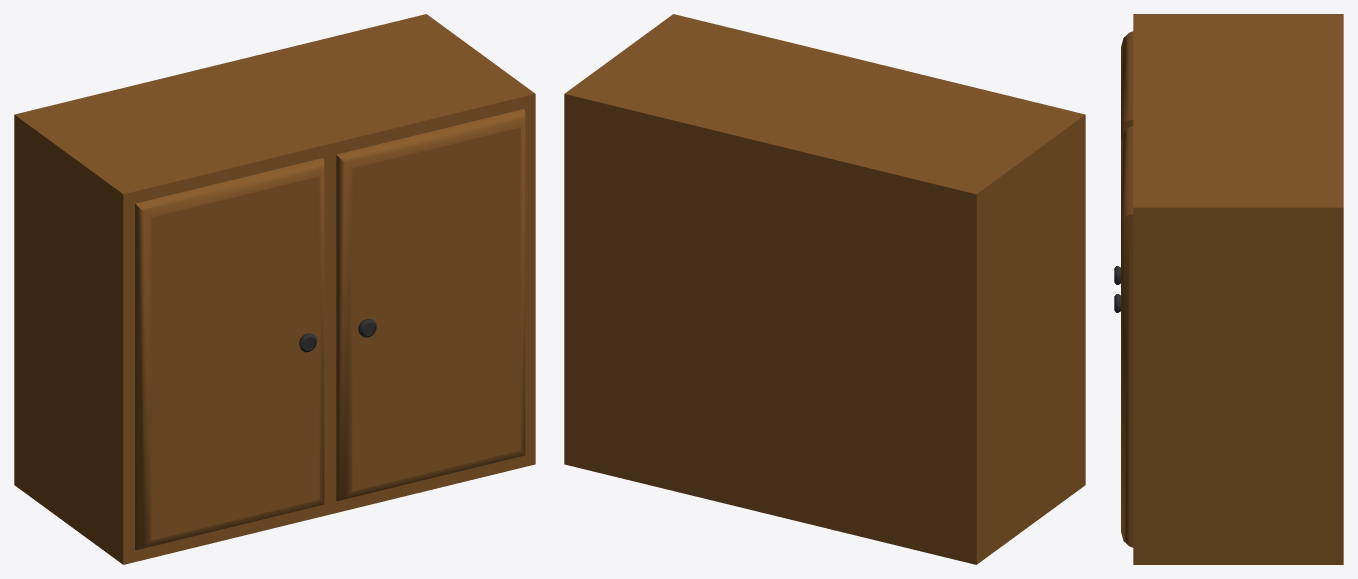
The model's file is funiture_cabinet.fbx.
3 views of the same model, side by side, from view 1: azimuth 30°, elevation 25°; view 2: azimuth 150°, elevation 25°; view 3: azimuth 270°, elevation 25° (orthographic). The views are drawn at different scales.
Parts seen in each view (by area): view 1: funiture_cabinet, Door1.002, door2.002; view 2: funiture_cabinet; view 3: funiture_cabinet, door2.002, Door1.002.
Boxes of the visible parts, <box> form: funiture_cabinet: <box>14,14,535,564</box>; Door1.002: <box>135,158,324,550</box>; door2.002: <box>336,109,525,500</box>; funiture_cabinet: <box>564,14,1085,564</box>; funiture_cabinet: <box>1133,14,1343,564</box>; door2.002: <box>1114,126,1133,547</box>; Door1.002: <box>1114,31,1133,284</box>.
Size of the model in its own units: 98.09 by 84.29 by 49.03.
